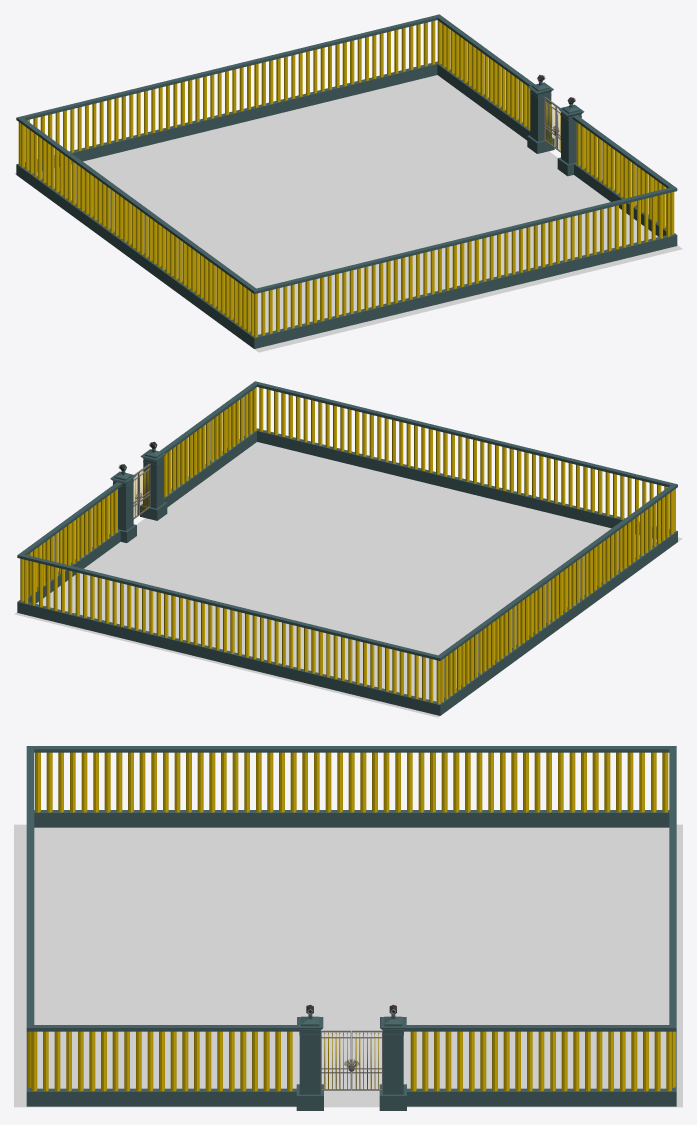
File: Finished Gate.glb
The picture shows the model from 3 angles, top to bottom: view 1: azimuth 30°, elevation 25°; view 2: azimuth 150°, elevation 25°; view 3: azimuth 270°, elevation 25°; orthographic projection. The views are drawn at different scales.
Parts seen in each view (by area): view 1: Floor, Boarder, Gate; view 2: Floor, Boarder, Gate, Spikes; view 3: Floor, Boarder, Gate, Spikes, Metal_Gate.
Part boxes in pixels (x1,y1,x2,y2): Floor: [14, 75, 682, 352]; Boarder: [18, 20, 674, 337]; Gate: [16, 14, 677, 348]; Floor: [14, 442, 682, 717]; Boarder: [20, 387, 675, 704]; Gate: [17, 381, 677, 715]; Spikes: [134, 466, 148, 517]; Floor: [14, 824, 682, 1107]; Boarder: [27, 752, 675, 1091]; Gate: [26, 746, 676, 1110]; Spikes: [324, 1032, 379, 1089]; Metal_Gate: [320, 1030, 382, 1090].
Bounding box in the file's own units: 81.9 × 13.25 × 80.87.
